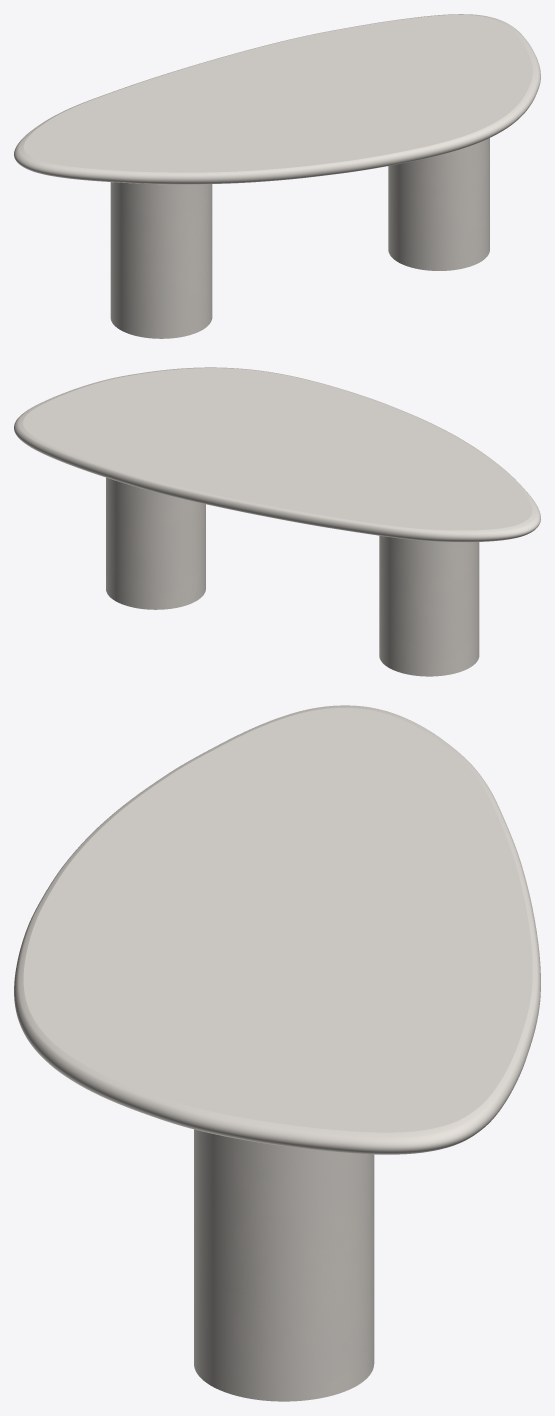
The model's file is pearlwhite_pebbletop_round_stream.glb.
The picture shows the model from 3 angles, top to bottom: view 1: azimuth 30°, elevation 25°; view 2: azimuth 150°, elevation 25°; view 3: azimuth 270°, elevation 25°; orthographic projection. The views are drawn at different scales.
Visible parts, largest first — view 1: round_pebbletop, stream; view 2: round_pebbletop, stream; view 3: round_pebbletop, stream.
Boxes of the visible parts, box(x1,y1,x2,y2) form: round_pebbletop: box(14, 14, 540, 184); stream: box(110, 138, 489, 338); round_pebbletop: box(14, 367, 540, 542); stream: box(106, 477, 479, 676); round_pebbletop: box(14, 705, 540, 1154); stream: box(194, 1129, 374, 1401).
Bounding box in the file's own units: 7.5 × 2.51 × 3.8.
Materials: 1 (1 with a texture image).
